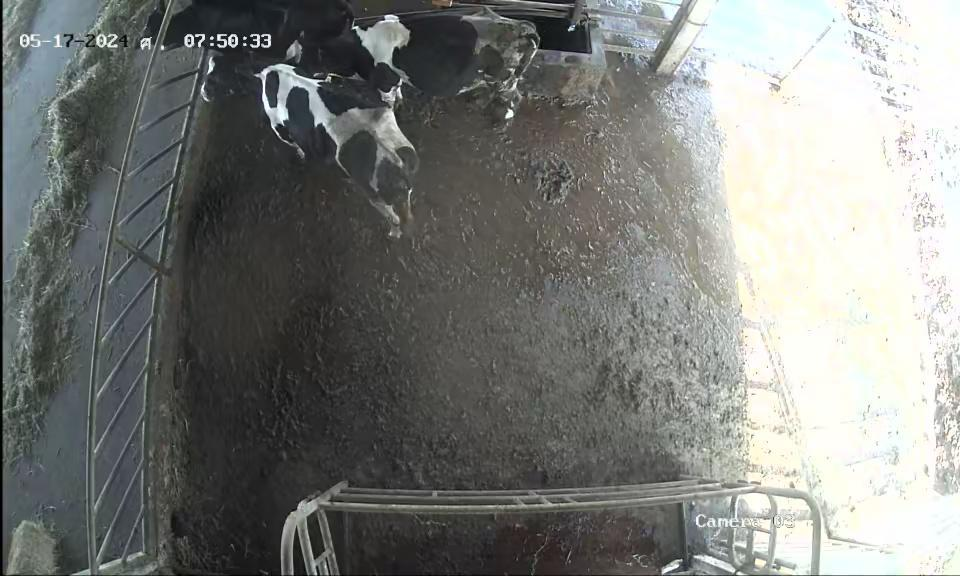eat: (122, 0, 217, 61)
stand: (201, 52, 431, 259), (286, 9, 539, 120)
